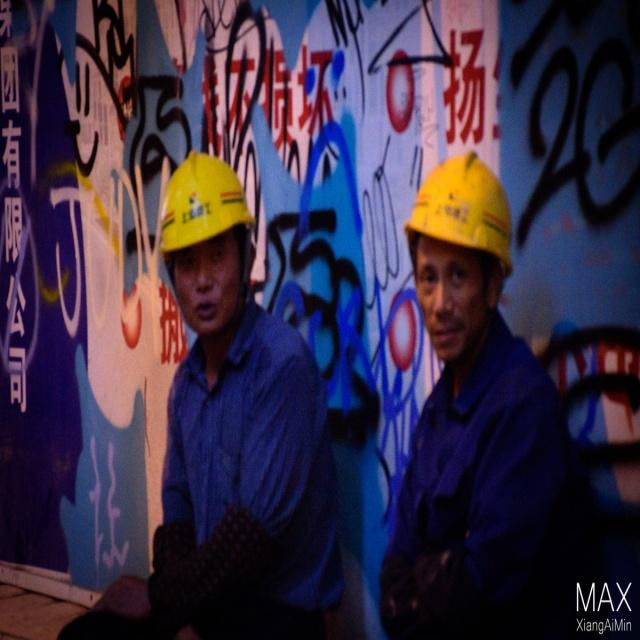helmet: (401, 197, 518, 487), (155, 196, 262, 444)
